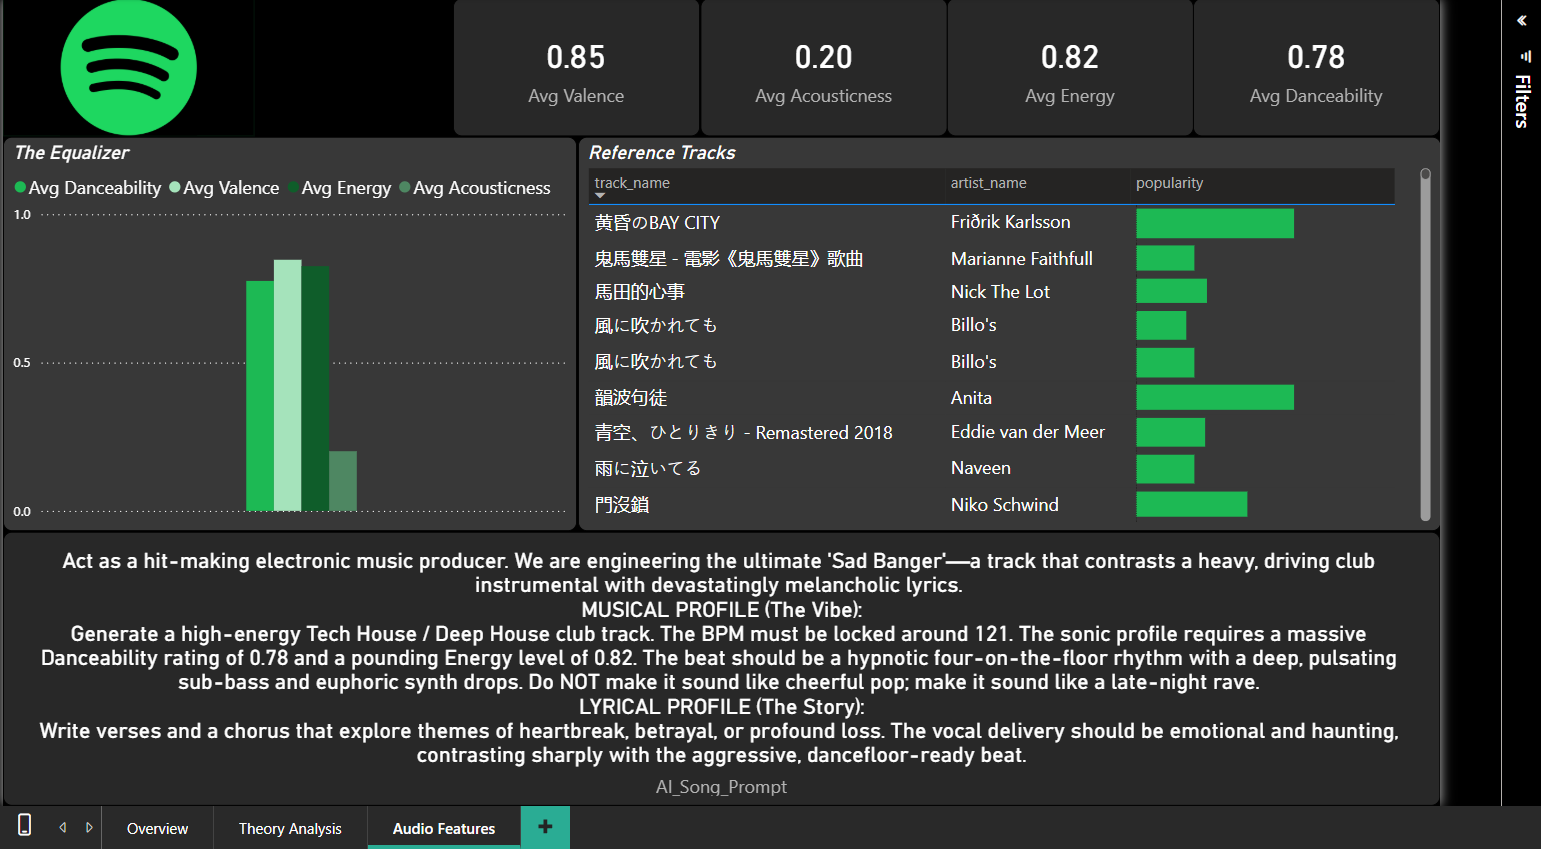

The dashboard page shown, as its layout file describes it:
{"tool":"powerbi","page":{"name":"Audio  Features","canvas":[1280,720],"ordinal":2},"visuals":[{"type":"card","fields":{"Values":["_Measures.Avg Danceability"]},"box":[1060.2,0,219.8,123.3],"z":0},{"type":"card","fields":{"Values":["_Measures.Avg Energy"]},"box":[840.7,0,219.8,123.3],"z":1000},{"type":"card","fields":{"Values":["_Measures.Avg Acousticness"]},"box":[620.9,0,219.8,123.3],"z":2000},{"type":"card","fields":{"Values":["_Measures.Avg Valence"]},"box":[401.2,0,219.8,123.3],"z":3000},{"type":"clusteredColumnChart","title":"The Equalizer","fields":{"Y":["_Measures.Avg Danceability","_Measures.Avg Valence","_Measures.Avg Energy","_Measures.Avg Acousticness"]},"box":[0,123.9,511.6,351.4],"z":4000},{"type":"tableEx","title":"Reference Tracks","fields":{"Values":["fact_songs.track_name","dim_artist.artist_name","fact_songs.popularity"]},"box":[511.6,123.9,768.7,351.4],"z":5000},{"type":"card","title":"AI_Song_Prompt","fields":{"Values":["_Measures.AI_Song_Prompt"]},"box":[0,475.6,1280.2,244.2],"z":6000},{"type":"image","box":[0,0,223.7,123.5],"z":7000}]}

Visuals, with their boxes on the page's 1280x720 design canvas (x1, y1, x2, y2). These are canvas units, not pixel positions in the 1541x849 screenshot, which may show the page scaled, cropped or inside an application window:
card - _Measures.Avg Danceability: box=[1060, 0, 1280, 123]
card - _Measures.Avg Energy: box=[841, 0, 1060, 123]
card - _Measures.Avg Acousticness: box=[621, 0, 841, 123]
card - _Measures.Avg Valence: box=[401, 0, 621, 123]
"The Equalizer" clusteredColumnChart: box=[0, 124, 512, 475]
"Reference Tracks" tableEx: box=[512, 124, 1280, 475]
"AI_Song_Prompt" card: box=[0, 476, 1280, 720]
image: box=[0, 0, 224, 124]
